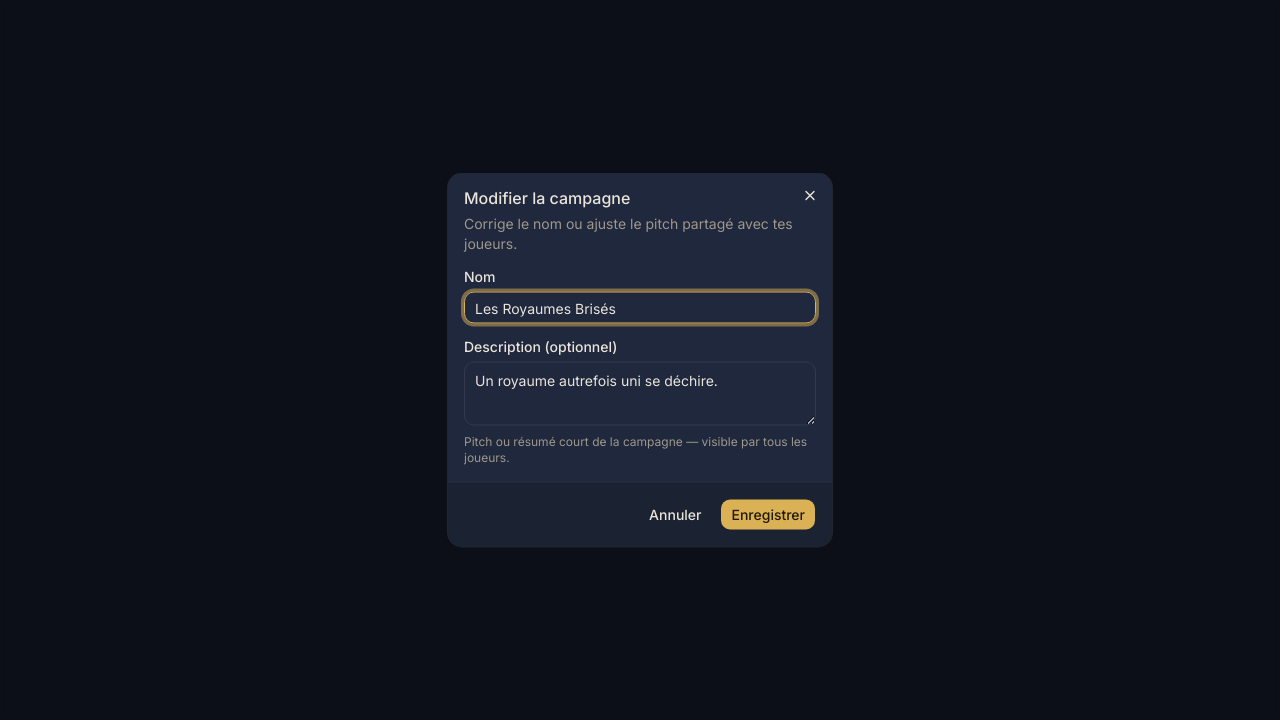
<CampaignEditDialog> › surfaces the 403 message on a forbidden response
The width and height of the screenshot is (1280, 720).
Replace the text in the field labelled "Nom" with "Les Royaumes BrisÃ©s interdits" at (640,308), box x1=464 y1=292 x2=816 y2=324
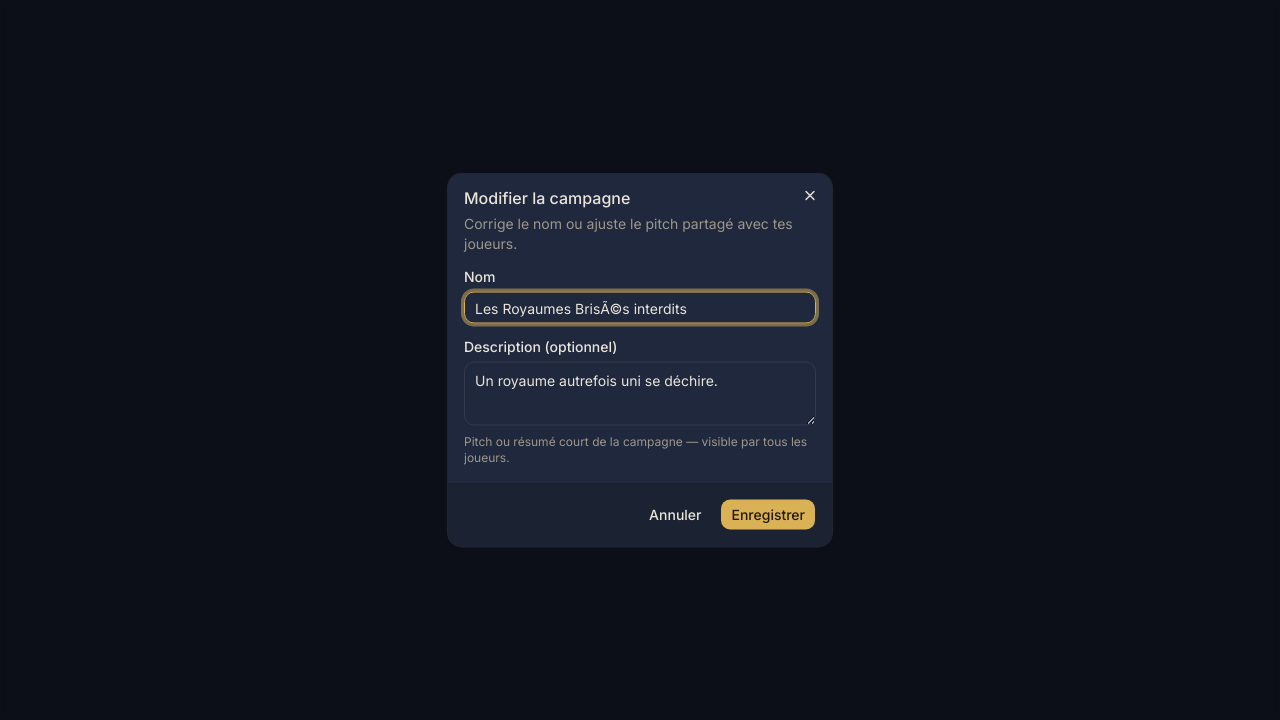
Click the button "Enregistrer".
click(768, 514)  # box x1=720 y1=498 x2=816 y2=530
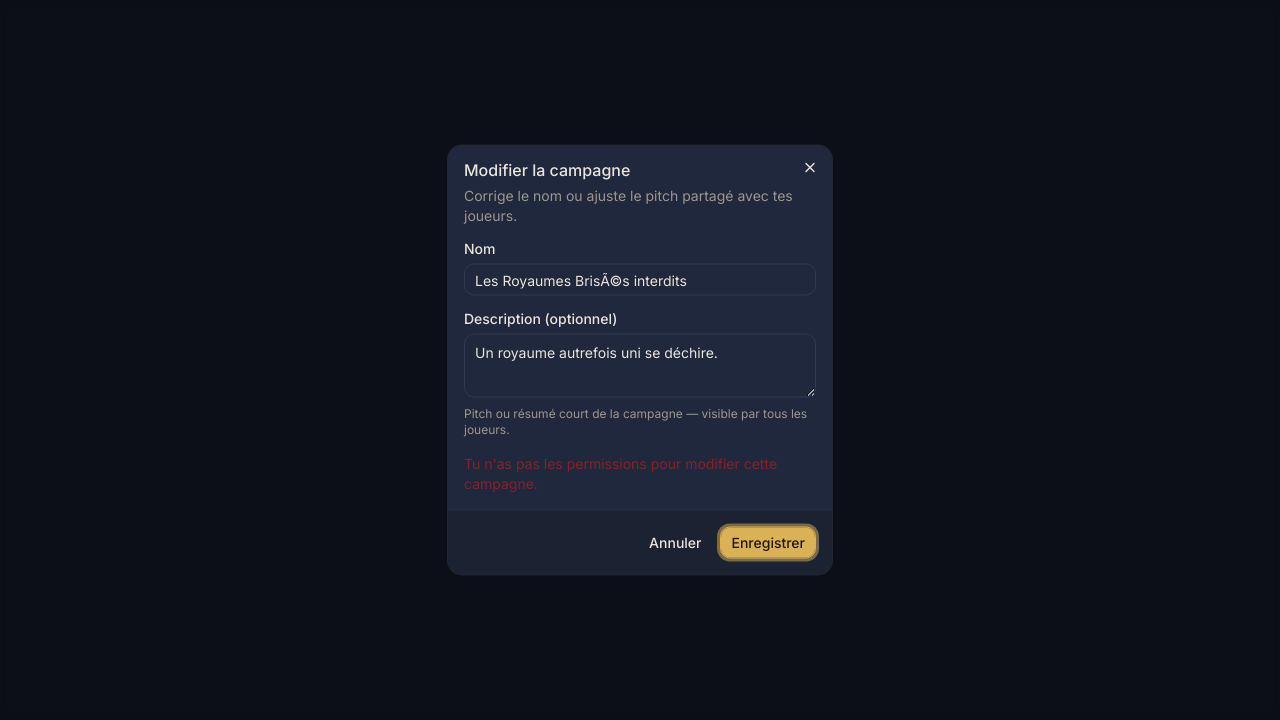
Expected: the text "Tu n'as pas les permissions pour modifier cette campagne." is shown, x1=464 y1=454 x2=816 y2=494
